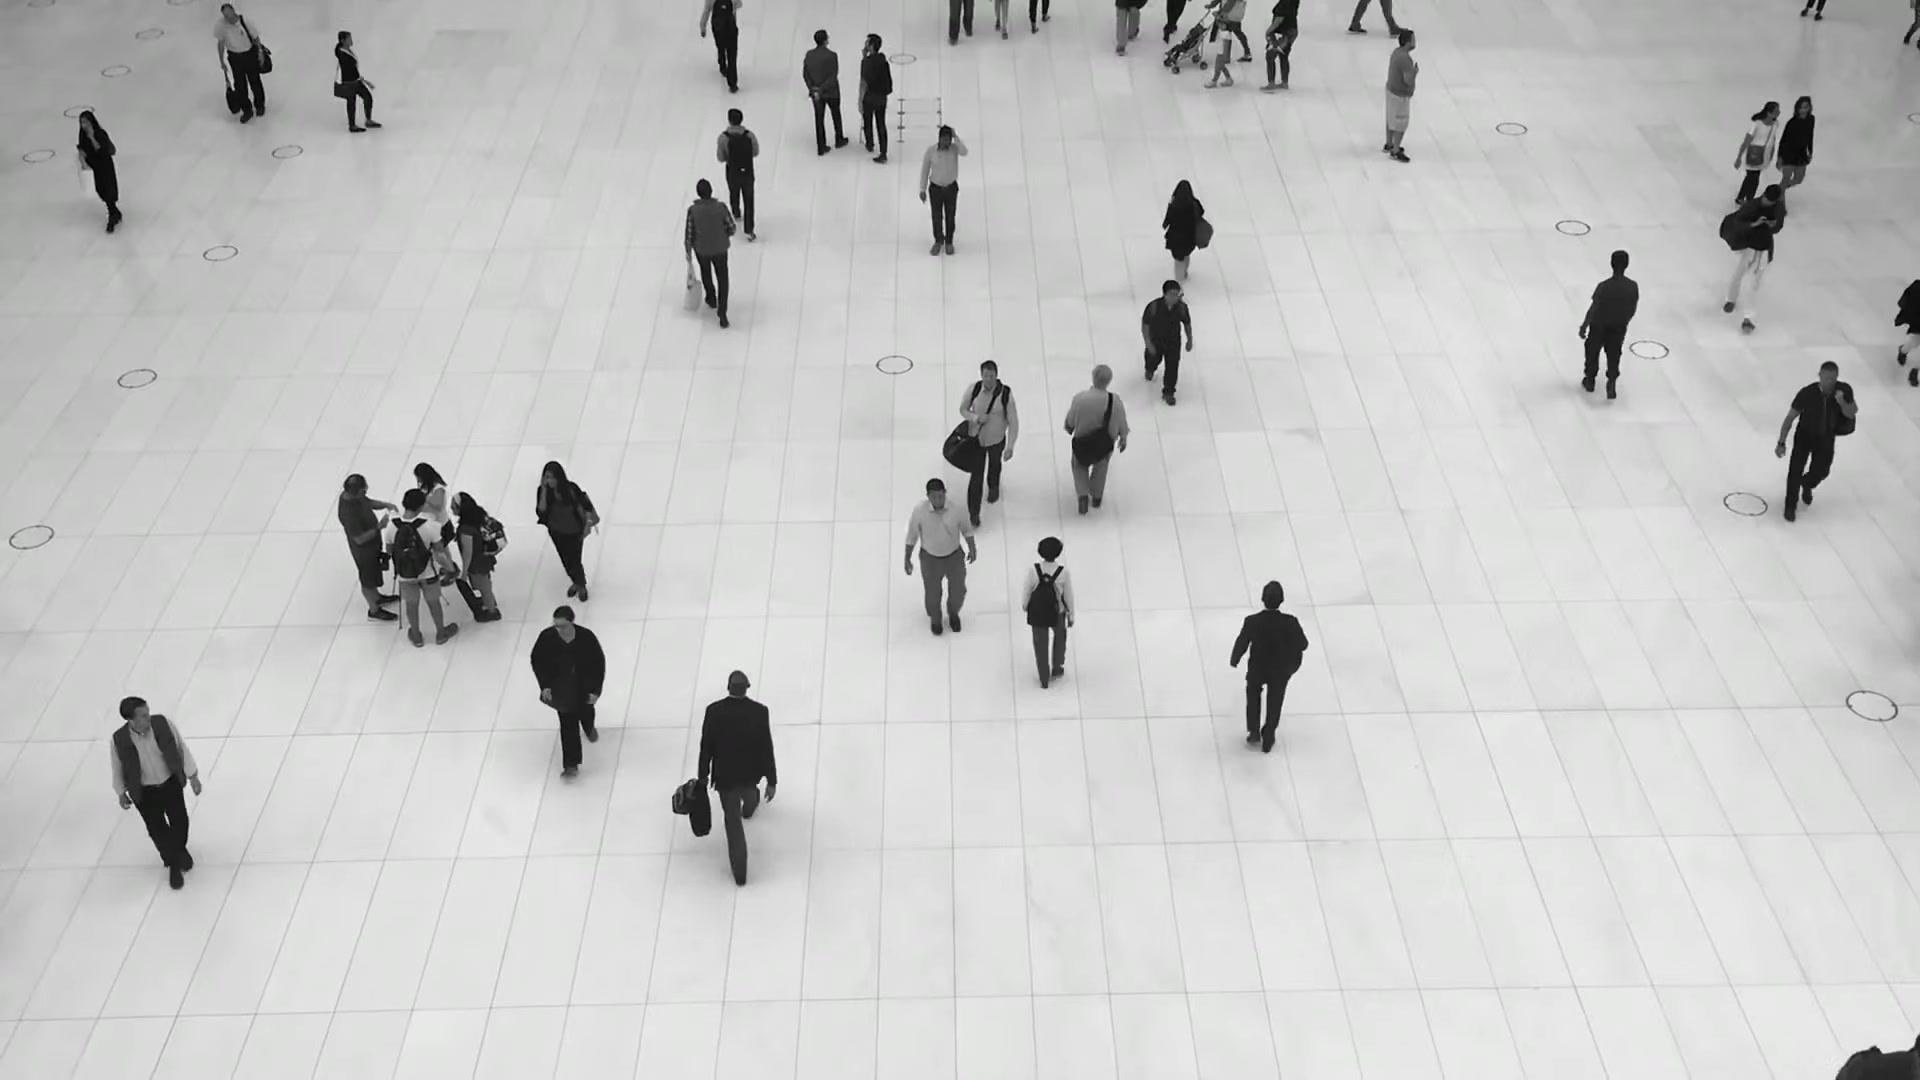person: (108, 697, 202, 902), (697, 669, 779, 879), (1226, 583, 1307, 764), (529, 605, 607, 780), (1777, 360, 1858, 520), (905, 477, 977, 645), (383, 487, 458, 648), (958, 359, 1018, 529), (1061, 364, 1128, 515), (535, 461, 600, 610), (337, 471, 400, 624), (1720, 183, 1784, 330), (1578, 249, 1640, 399), (1020, 538, 1075, 699), (683, 176, 735, 322), (449, 490, 502, 622), (915, 123, 965, 257), (1139, 277, 1193, 400), (211, 3, 265, 123), (331, 30, 393, 132), (1160, 178, 1214, 288), (412, 461, 459, 586), (715, 108, 760, 239), (802, 29, 846, 156), (76, 109, 123, 232), (1728, 100, 1779, 205), (1382, 27, 1420, 162), (856, 32, 893, 162), (1774, 95, 1814, 206), (699, 0, 745, 92), (1254, 0, 1299, 92), (1206, 18, 1233, 88)
